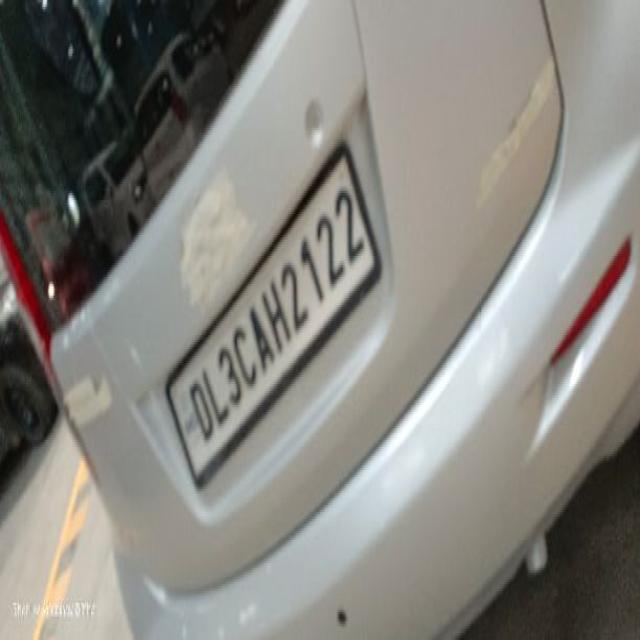license_plate: (46, 0, 639, 638), (164, 126, 386, 486)
